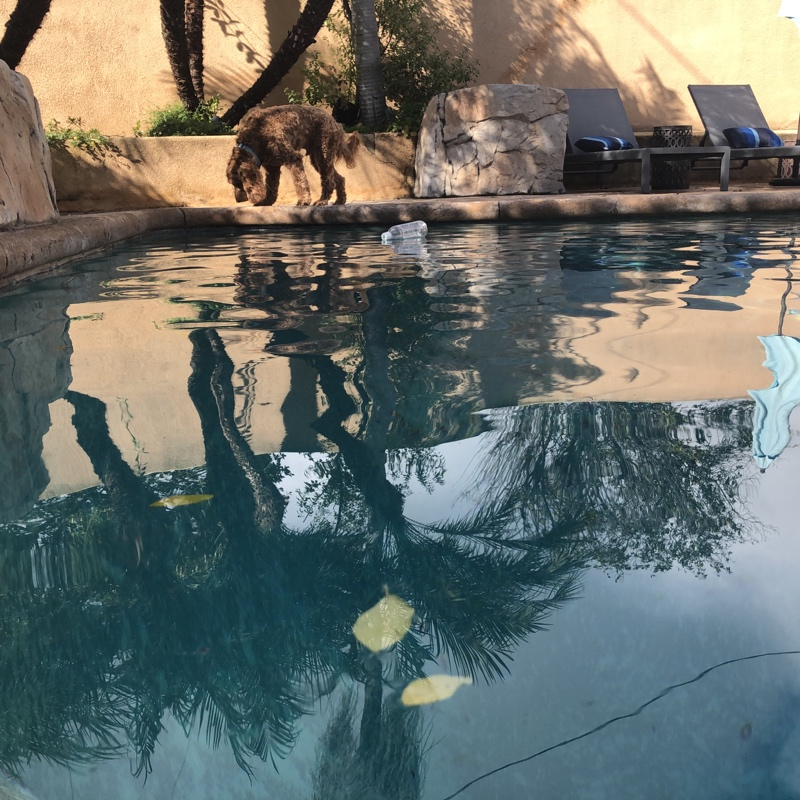Plastic Bottle: (379, 217, 427, 245)
